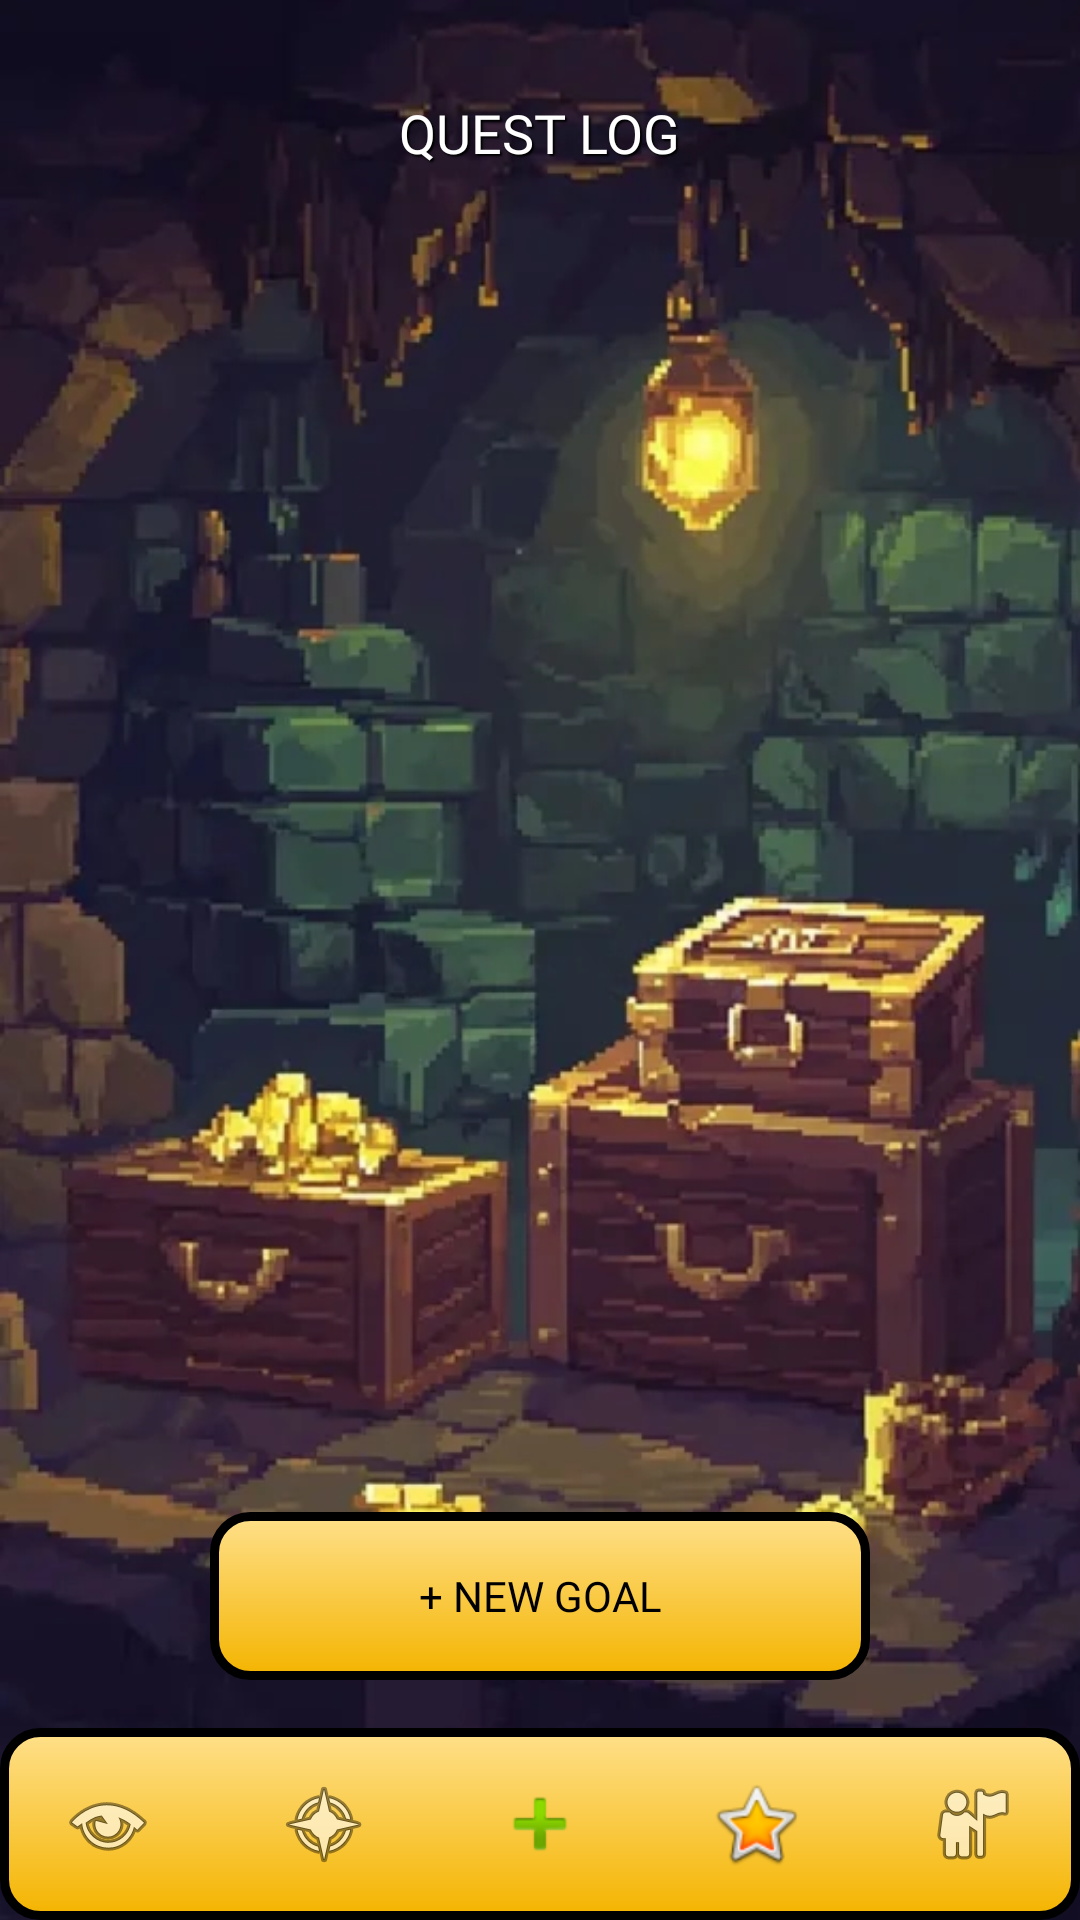

Point at icon controls on the screen. Image size 1080px x 1920px, points as point (x, y).
Add: point (540, 1824)
Challenges: point (756, 1824)
